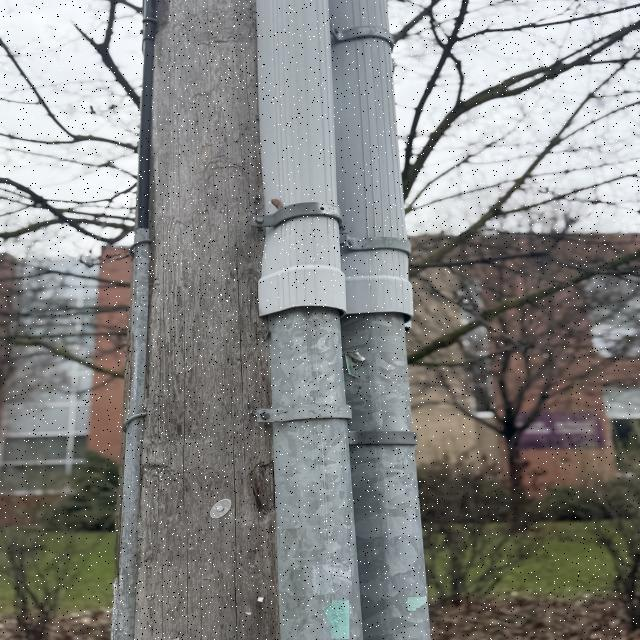Electrical Pole: (101, 1, 433, 640)
